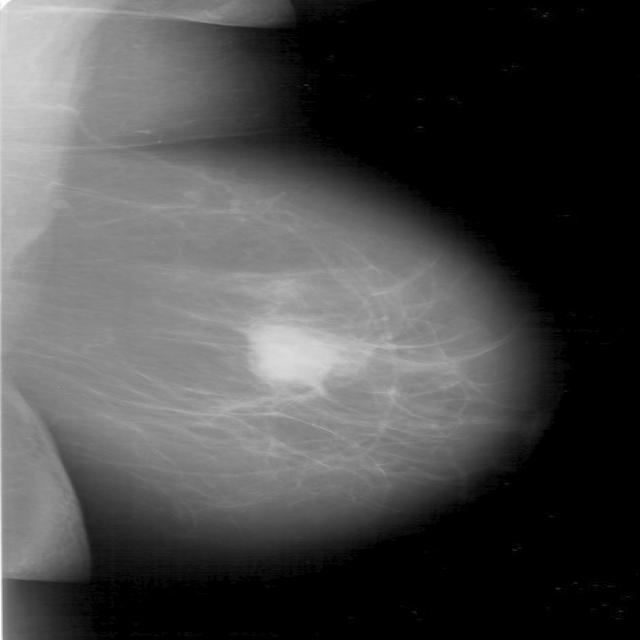tumour: (242, 317, 339, 388)
